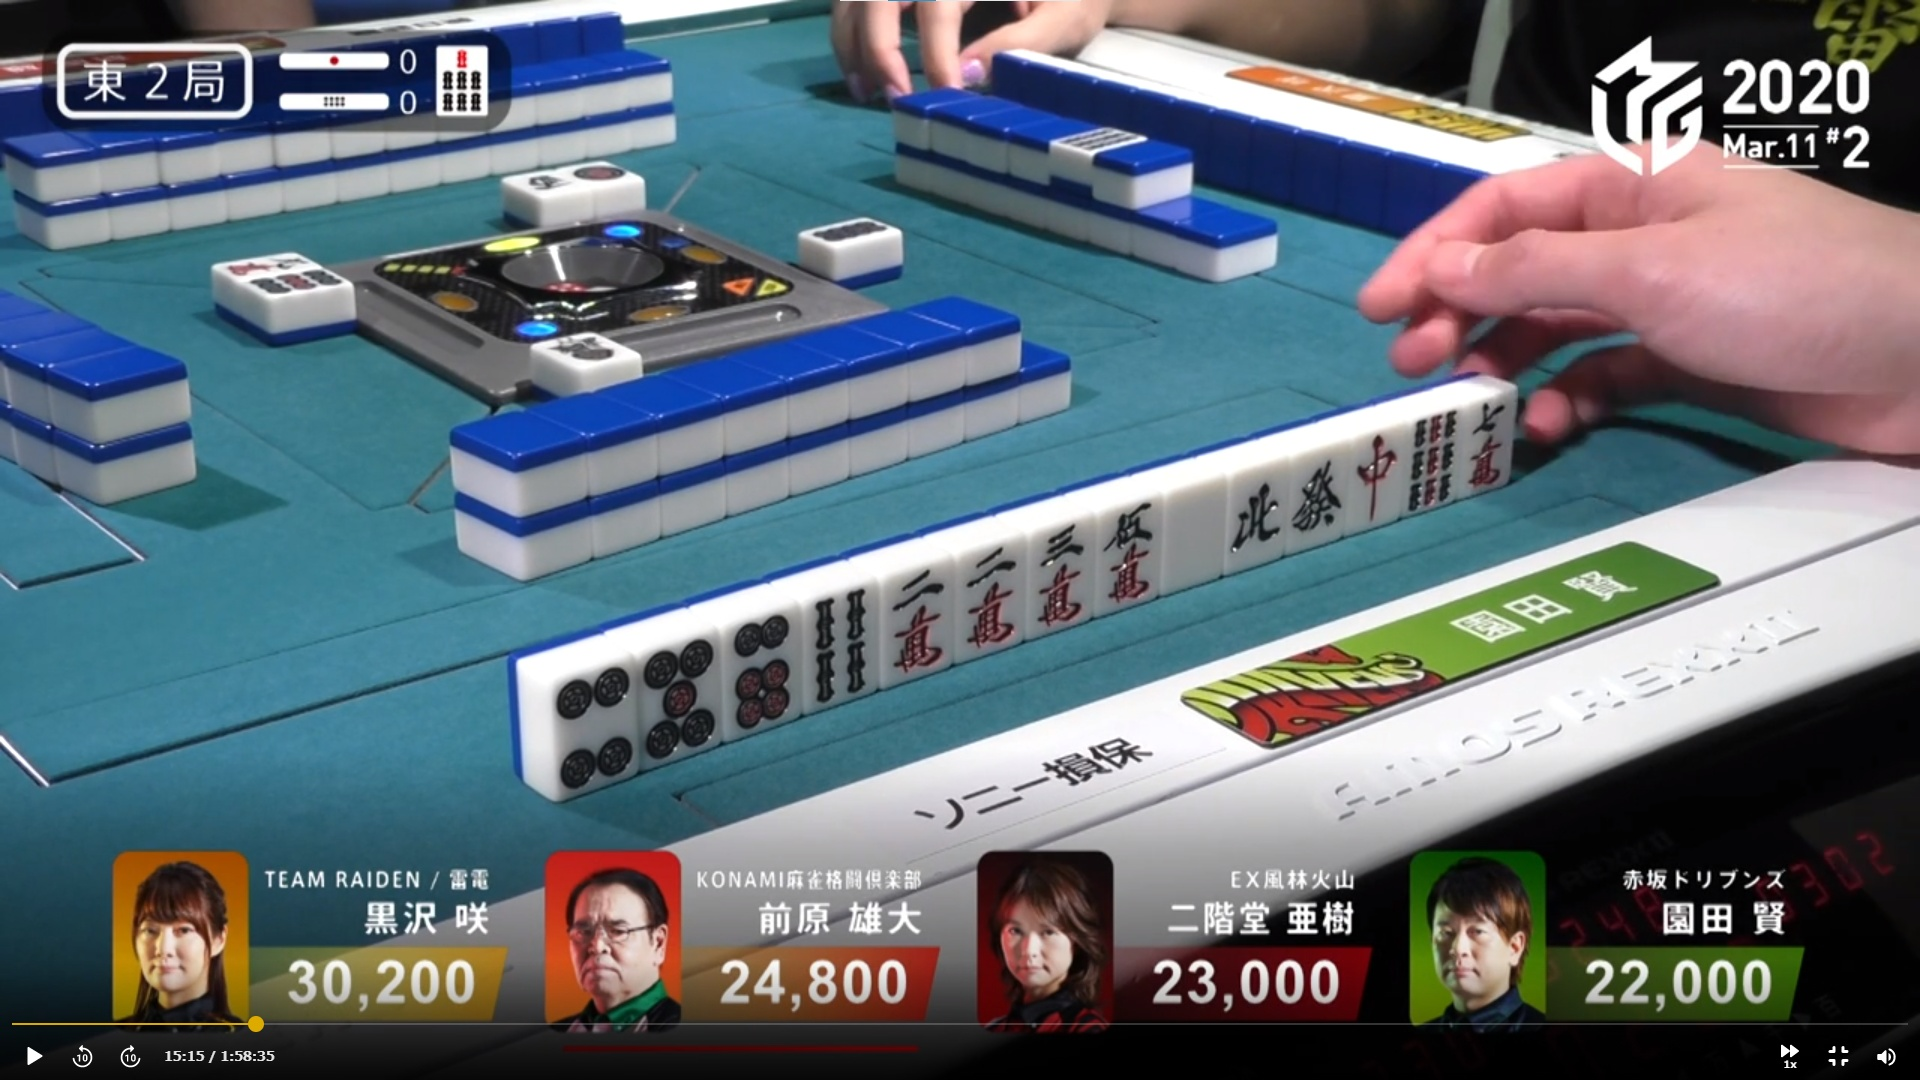2m: (872, 549, 948, 684), (945, 520, 1021, 657)
3m: (1025, 502, 1084, 634)
4p: (541, 647, 632, 787)
4s: (799, 568, 873, 719)
5m: (1091, 477, 1153, 608)
5p: (628, 613, 717, 767)
6p: (724, 587, 791, 728)
7m: (1458, 375, 1511, 498)
9s: (1407, 386, 1455, 520)
chun: (1341, 407, 1404, 533)
haku: (1155, 462, 1224, 595)
hand_ton_2: (51, 45, 265, 121)
hatsu: (1282, 425, 1340, 549)
pei: (1224, 442, 1283, 570)
round_0: (270, 79, 422, 113)
team_drivens: (1178, 620, 1447, 746)
